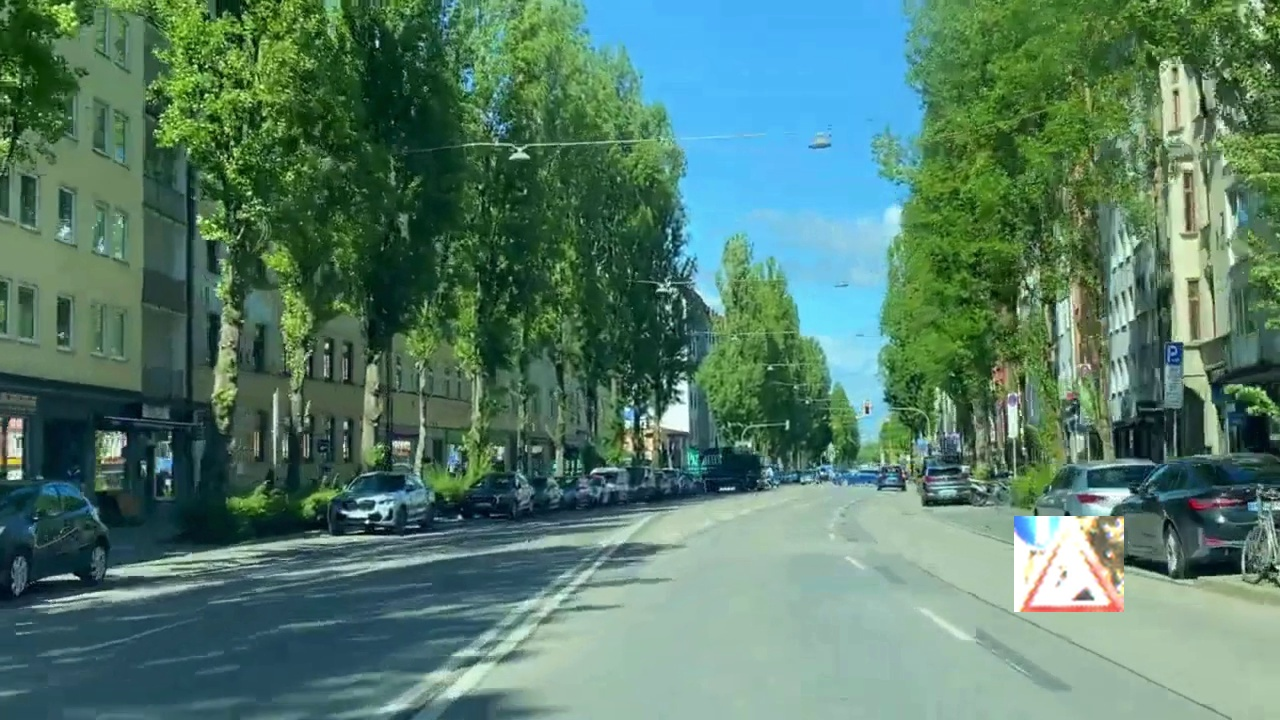Road work: (1014, 516, 1124, 612)
